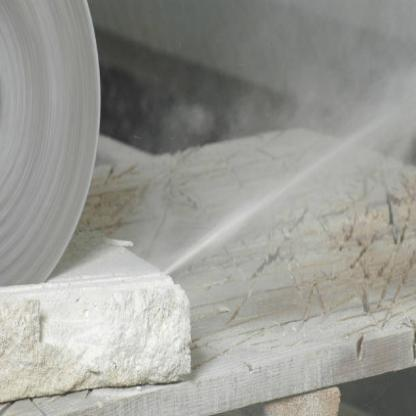Metamorphic_Marble: (0, 234, 208, 402)
